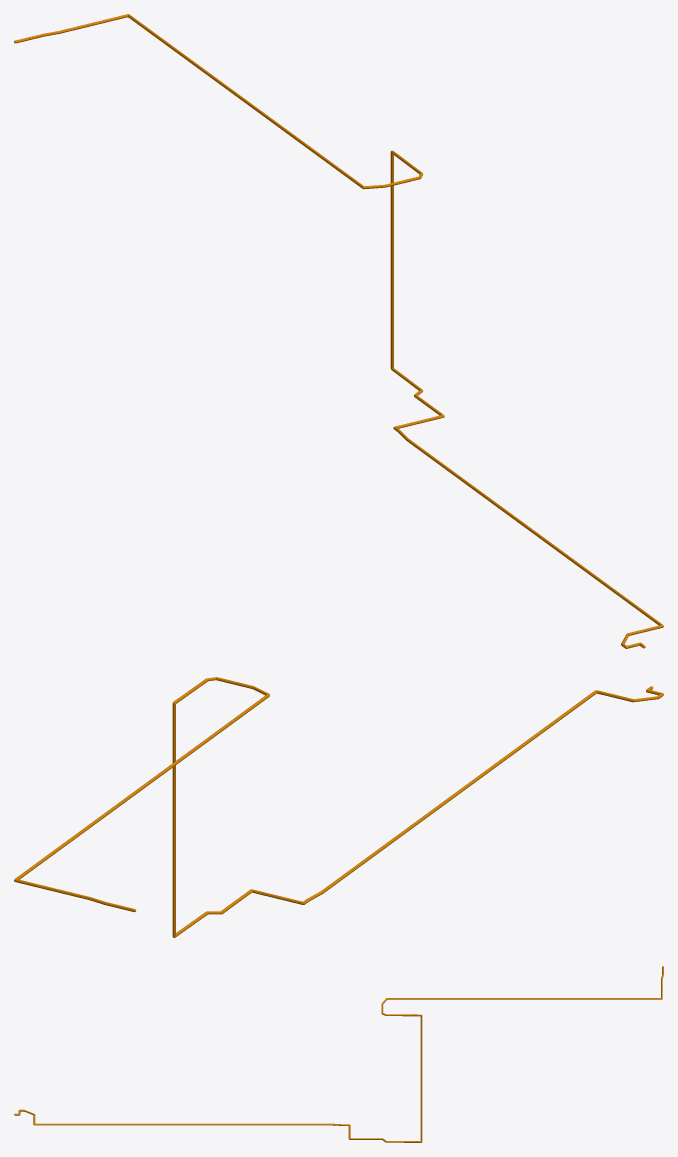
The picture shows the model from 3 angles, top to bottom: view 1: azimuth 30°, elevation 25°; view 2: azimuth 150°, elevation 25°; view 3: azimuth 270°, elevation 25°; orthographic projection. The views are drawn at different scales.
Size of the model in its own units: 1250 by 1520 by 6977.
